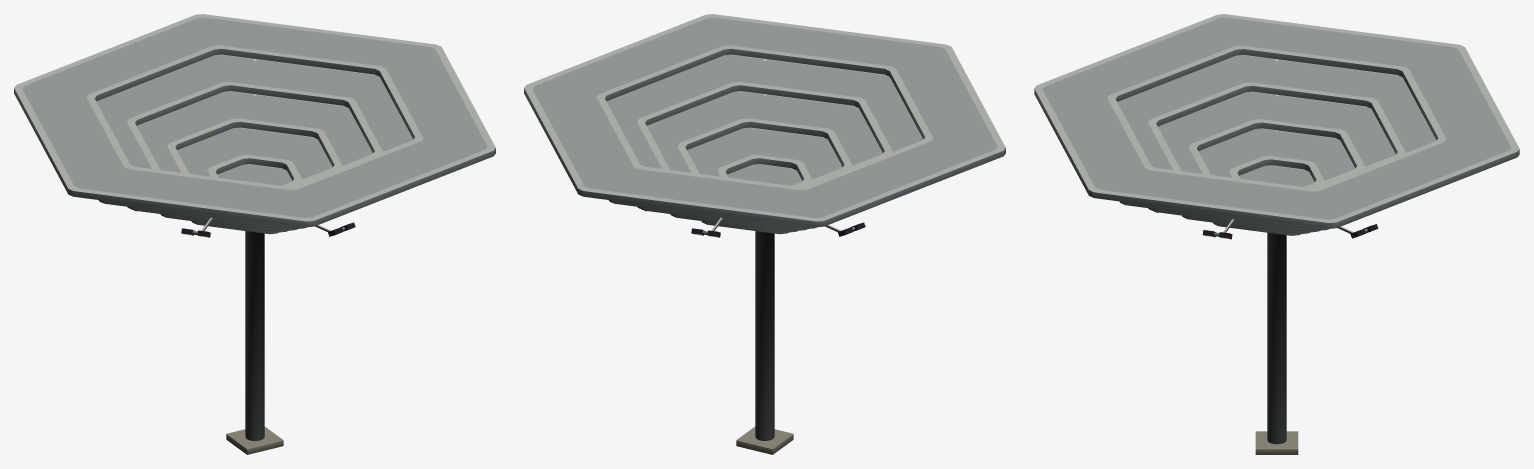
File: Modular_Structure_2B.fbx
The picture shows the model from 3 angles, left to right: view 1: azimuth 30°, elevation 25°; view 2: azimuth 150°, elevation 25°; view 3: azimuth 270°, elevation 25°; orthographic projection.
Visible parts, largest first — view 1: Modular_Structure_2B; view 2: Modular_Structure_2B; view 3: Modular_Structure_2B.
Part boxes in pixels (bbox=[...]): Modular_Structure_2B: bbox=[14, 14, 495, 454]; Modular_Structure_2B: bbox=[524, 14, 1005, 454]; Modular_Structure_2B: bbox=[1034, 14, 1519, 454].
Size of the model in its own units: 2329 by 1700 by 2284.
